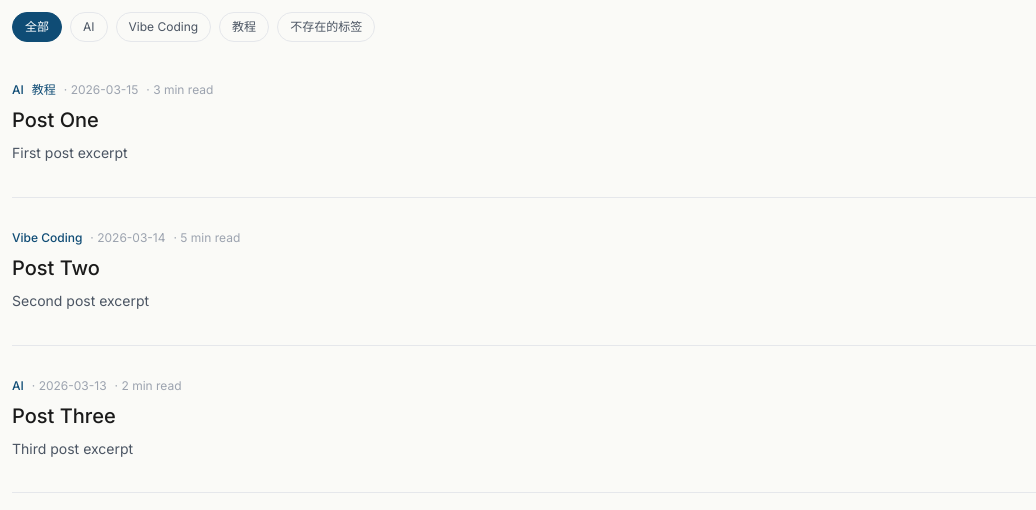
it: BlogList › shows empty state when no posts match tag
Click the button "不存在的标签": (326, 27) [277, 12, 375, 42]
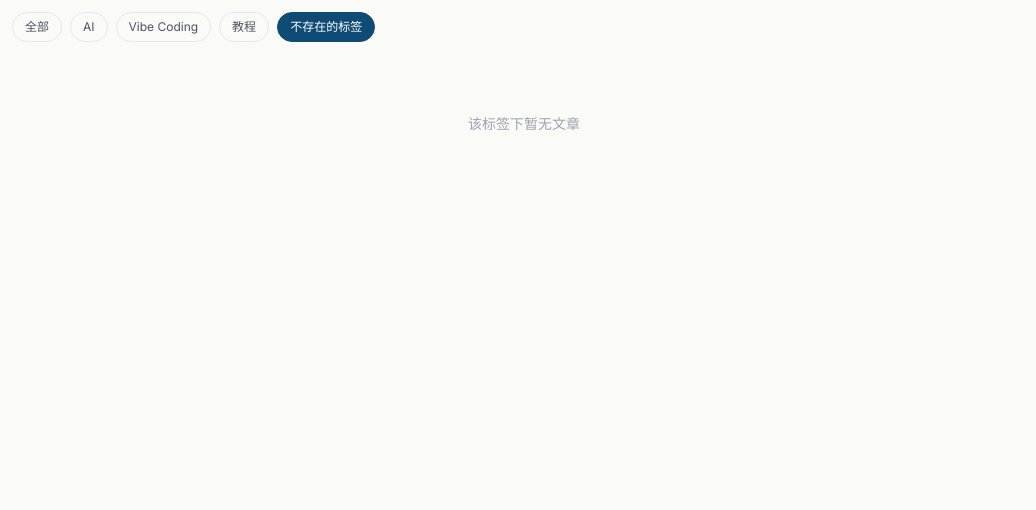
Check: the text "该标签下暂无文章" is shown, box [468, 115, 580, 132]
